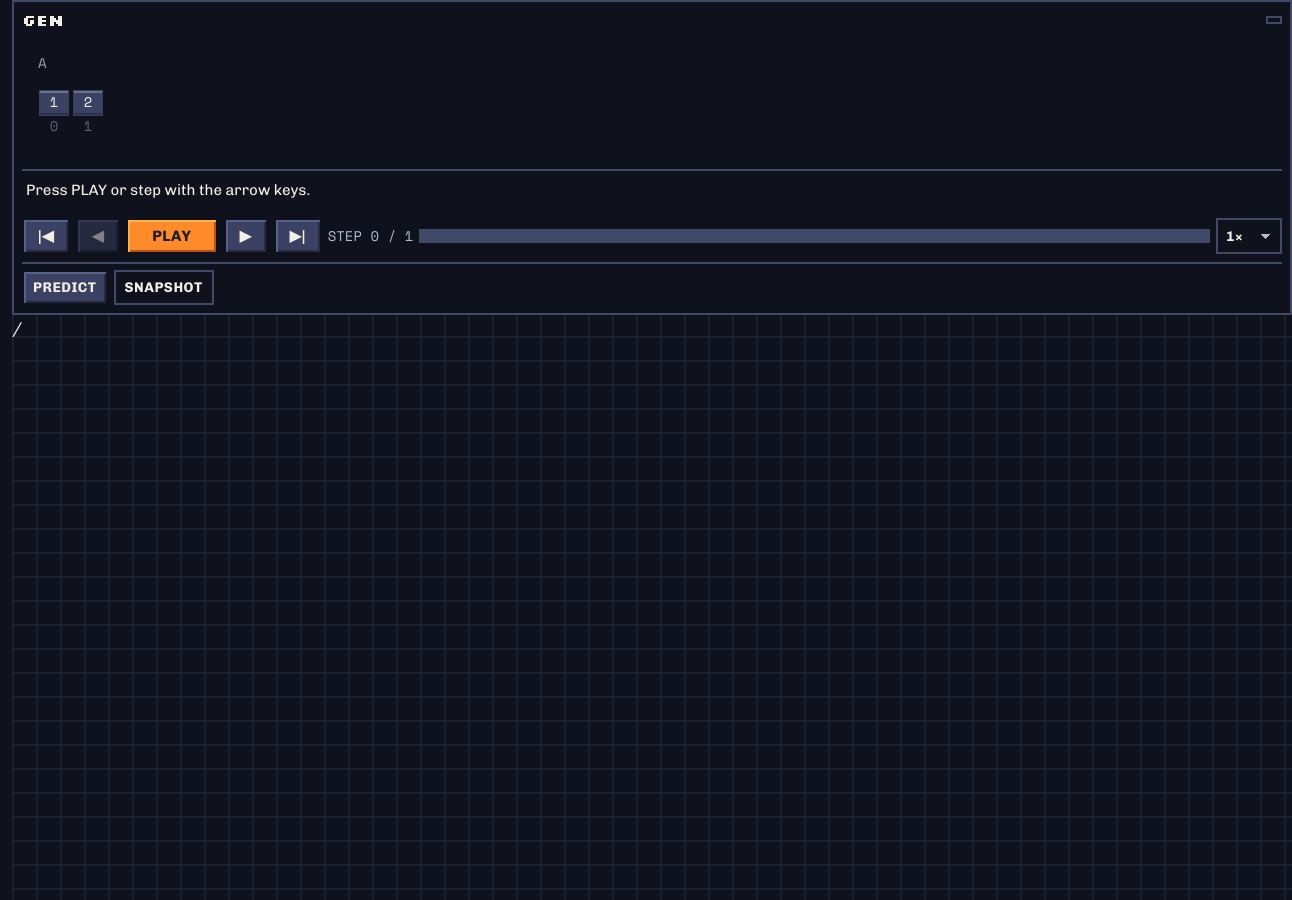
it: AlgoPlayer (labs contract §4) › plays explicit JSON (the generated-picture seam) and records nothing
Check: the element named "Player: " is shown, box top-left (12, 0), bottom-right (1291, 315)
Step 1. Click the button named "Step forward" → (246, 236), box top-left (224, 218), bottom-right (268, 254)
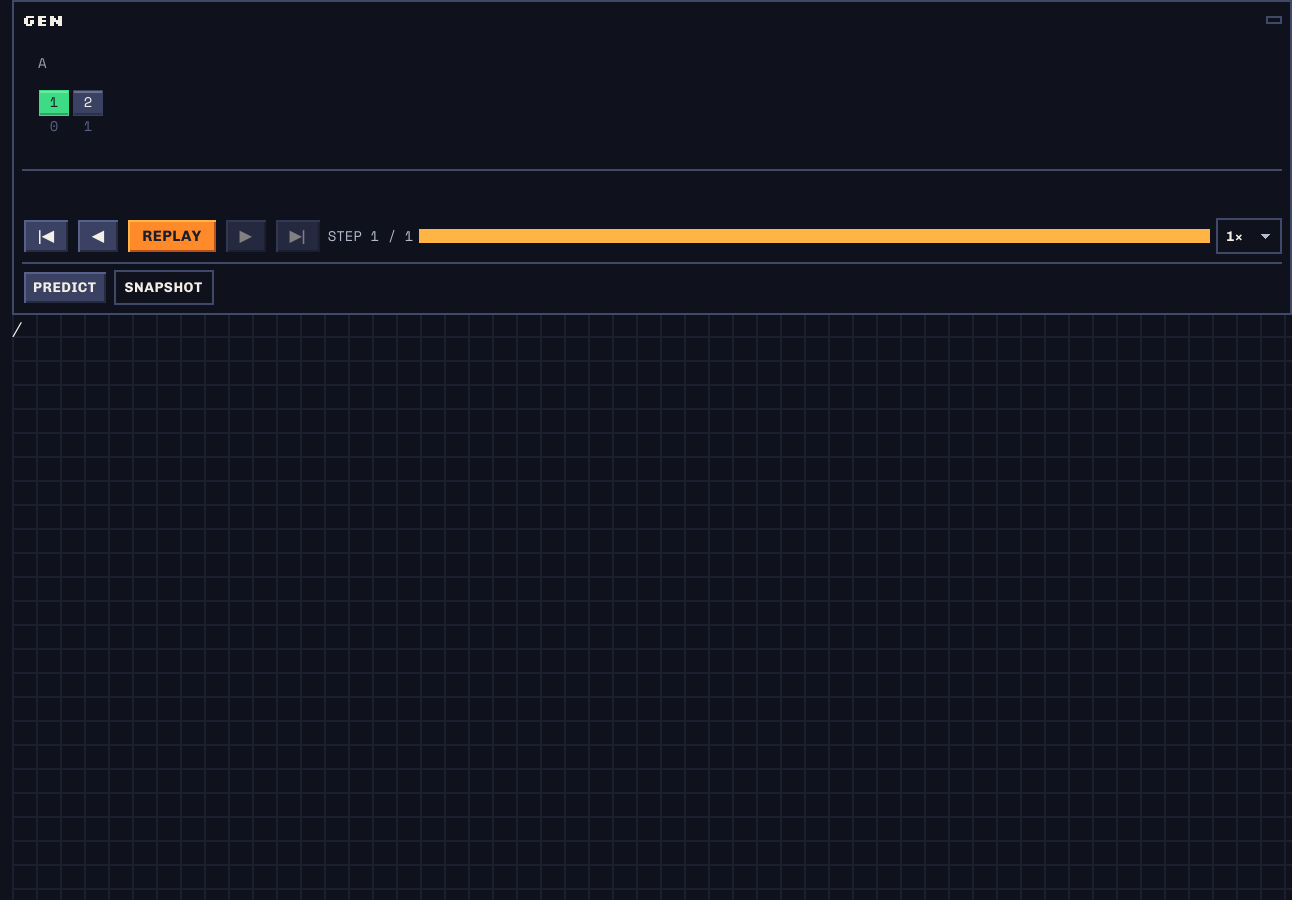
Check: the text with test id "lab-step-counter" reads "STEP 1 / 1", box top-left (328, 225), bottom-right (413, 246)
